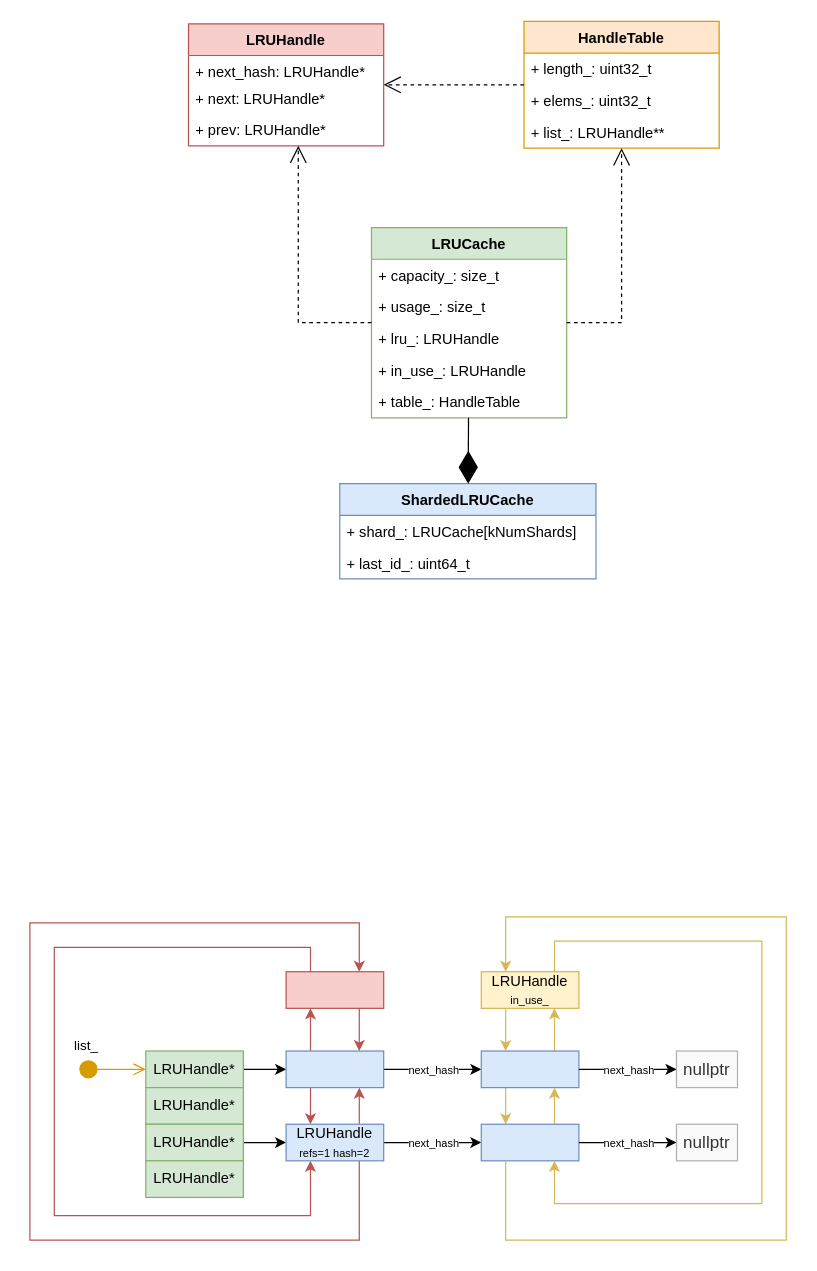
This 817x1271 diagram has some shape labels left out. The centre of each missing label's shape, as x and y in pixels:
"LRUHandle lru_" belongs at (334,989).
"LRUHandle refs=1 hash=0" belongs at (334,1069).
"LRUHandle refs=2 hash=0" belongs at (529,1069).
"LRUHandle refs=2 hash=2" belongs at (529,1142).
